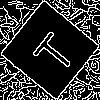T: (25, 24, 79, 77)
